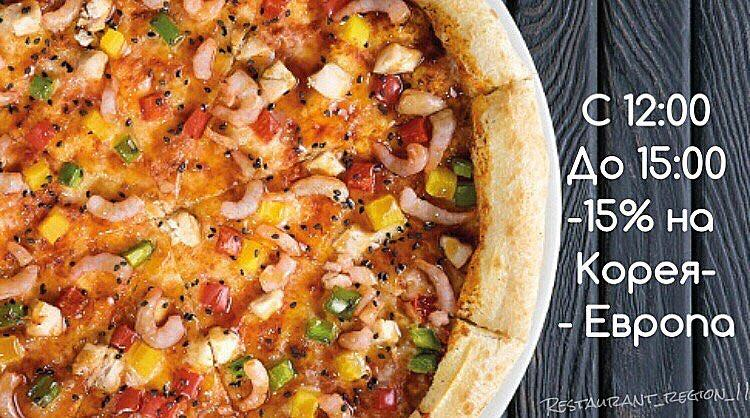Peppers: (147, 4, 189, 57), (136, 85, 181, 129), (340, 153, 380, 201), (359, 195, 409, 233), (51, 282, 95, 324), (175, 101, 217, 142), (23, 366, 63, 409), (17, 155, 62, 193), (127, 340, 165, 384), (137, 383, 184, 418), (32, 207, 75, 245), (299, 311, 344, 345), (110, 131, 144, 176), (212, 221, 247, 263), (79, 109, 121, 144), (96, 22, 133, 61), (167, 363, 207, 399), (249, 105, 285, 145), (193, 277, 231, 314), (235, 235, 269, 275), (49, 157, 89, 190), (374, 66, 405, 107), (333, 16, 375, 46), (103, 320, 141, 353), (425, 163, 458, 201), (254, 194, 290, 228), (123, 239, 159, 273), (285, 385, 322, 418), (25, 71, 63, 103), (405, 323, 446, 352), (395, 115, 429, 149), (106, 383, 141, 416), (335, 350, 368, 383), (327, 285, 361, 317), (401, 349, 437, 378), (0, 331, 25, 371), (0, 299, 27, 332), (451, 179, 479, 209), (225, 349, 253, 378), (258, 0, 295, 20), (450, 154, 477, 178), (271, 360, 291, 387)
Pizza: (0, 0, 564, 418)
